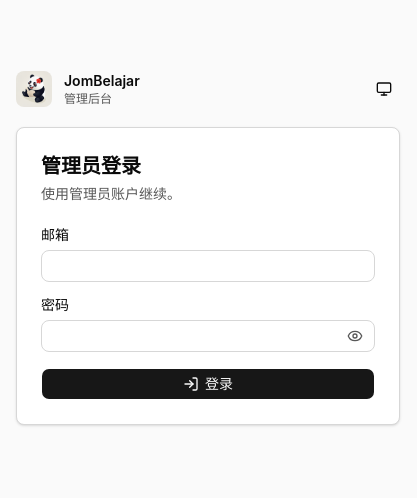
Test: Login › validates required fields before making a request
The image size is (417, 498).
Click the button "登录": (208, 384) [41, 368, 375, 400]
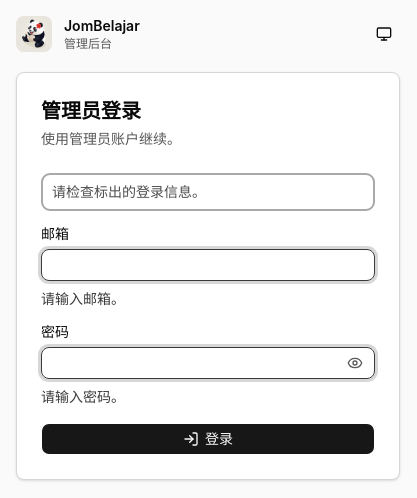
Check: the text "请输入邮箱。" is shown, box [41, 290, 125, 307]
Check: the text "请输入密码。" is shown, box [41, 388, 125, 405]
